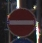No entry: (5, 6, 37, 38)
